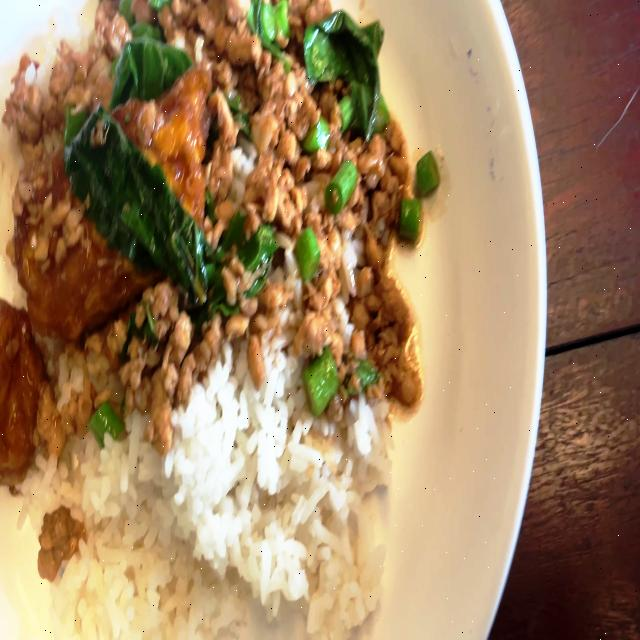fried_tofo: (31, 89, 197, 315), (0, 305, 32, 468)
minced_pork: (196, 77, 422, 380), (69, 0, 389, 77), (51, 295, 198, 449), (108, 2, 248, 136), (246, 56, 314, 158), (19, 167, 86, 269), (36, 366, 94, 456), (241, 146, 301, 232), (365, 130, 412, 233), (47, 40, 102, 122), (36, 505, 86, 584), (153, 2, 204, 52), (94, 3, 132, 58), (206, 138, 236, 206), (13, 67, 39, 131), (382, 117, 409, 175), (355, 133, 388, 177), (48, 54, 75, 100), (194, 1, 224, 41), (156, 3, 182, 43), (134, 100, 158, 141), (304, 0, 333, 28), (171, 0, 197, 29), (85, 331, 106, 362), (130, 0, 154, 26), (93, 385, 113, 411), (147, 0, 174, 18), (224, 2, 245, 24), (34, 234, 50, 261), (18, 177, 33, 204), (13, 190, 26, 216), (18, 53, 32, 74), (6, 236, 15, 262)
rice: (104, 395, 385, 622), (19, 433, 80, 535), (1, 140, 30, 306), (96, 539, 138, 568)
stir_fried_basil: (0, 0, 423, 640)
